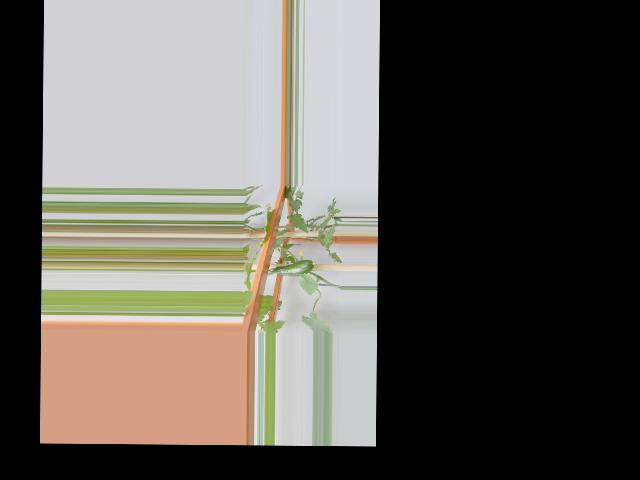cucumber: (274, 259, 317, 276)
